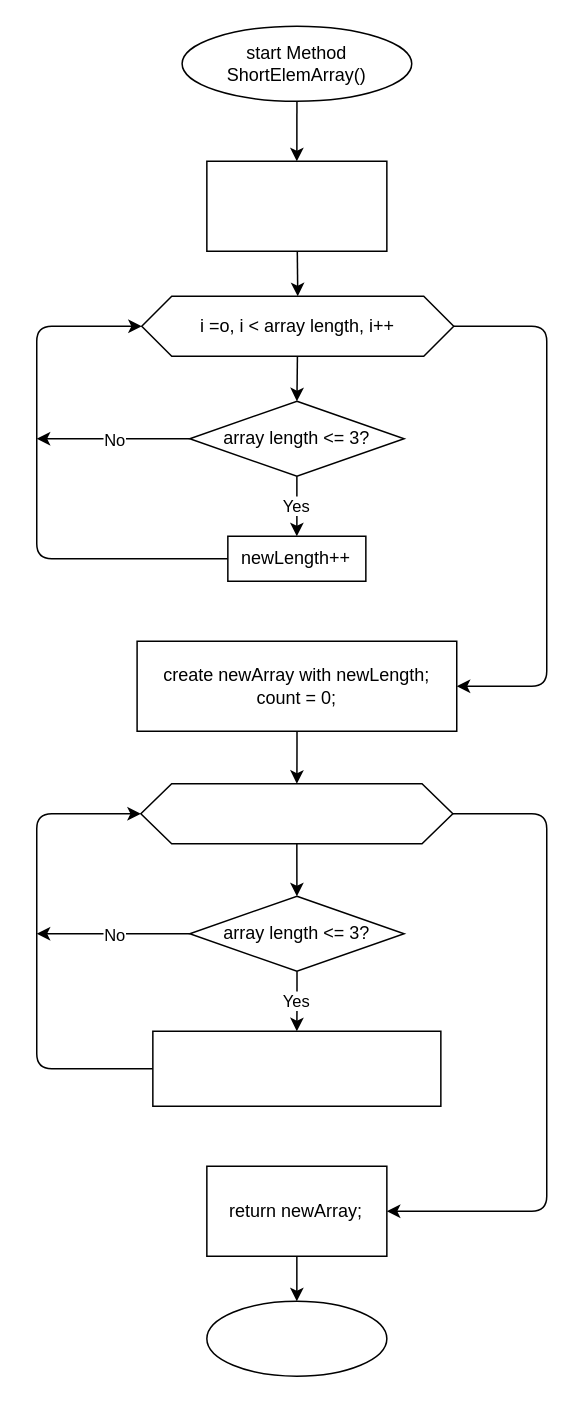
Image size: 585x1403. Some labels were removed from this diagram. Here are the shapes that lost their labels. From the top down, the centre of each, then its label:
At (296,205): "array of strings; newLength = 0;".
At (296,813): "j =o, j < array length, j++".
At (296,1068): "newArray[count] = array[j]; count++".
At (296,1338): "end".
